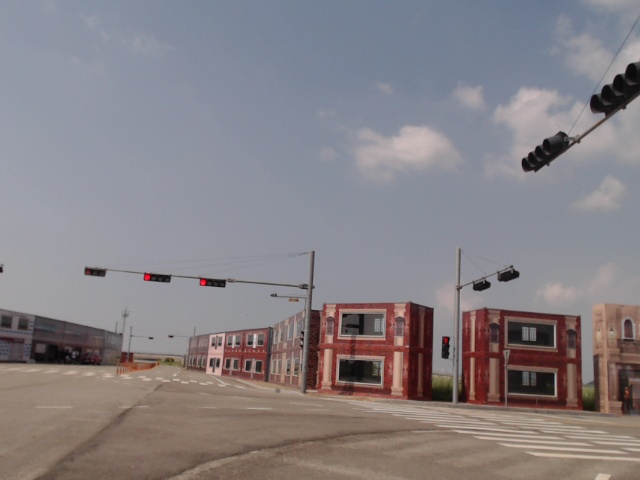red_4: (199, 276, 227, 289), (144, 273, 171, 283)
